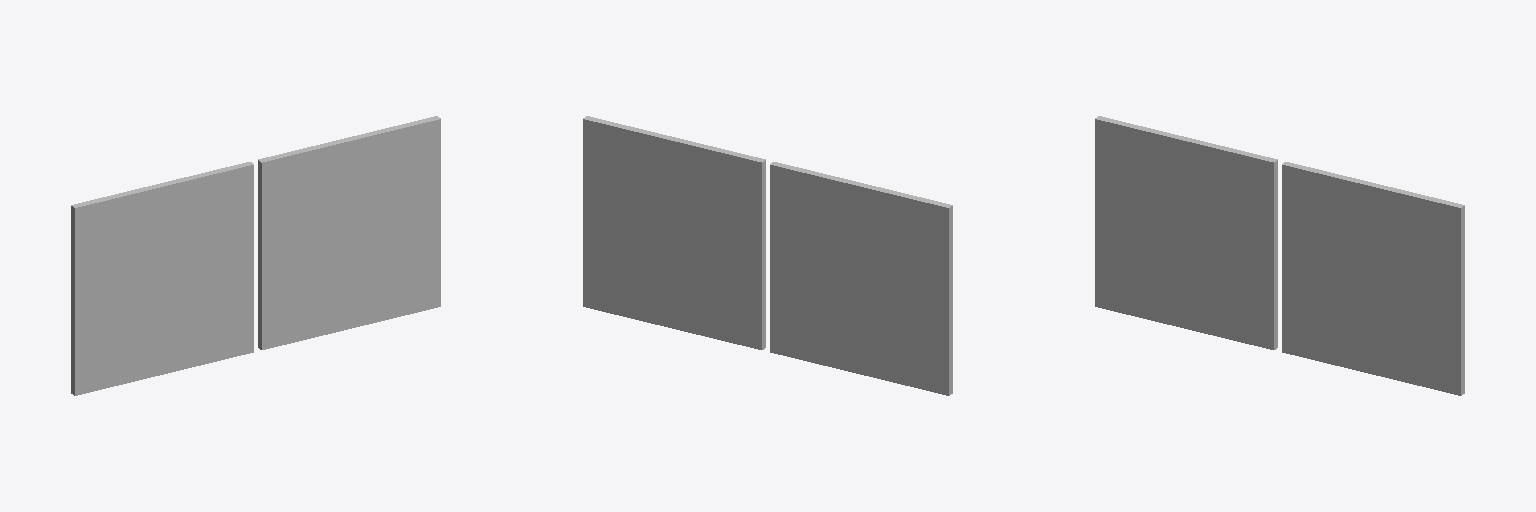
3 renders of one model, left to right at view 1: azimuth 30°, elevation 25°; view 2: azimuth 150°, elevation 25°; view 3: azimuth 330°, elevation 25°, orthographic.
Visible parts, largest first — view 1: PC63_Cube.066, PC66_Cube.069; view 2: PC63_Cube.066, PC66_Cube.069; view 3: PC63_Cube.066, PC66_Cube.069.
Boxes of the visible parts, x1=… form: PC63_Cube.066: x1=258, y1=116, x2=440, y2=349; PC66_Cube.069: x1=71, y1=162, x2=253, y2=395; PC63_Cube.066: x1=583, y1=116, x2=765, y2=349; PC66_Cube.069: x1=770, y1=162, x2=952, y2=395; PC63_Cube.066: x1=1282, y1=162, x2=1464, y2=395; PC66_Cube.069: x1=1095, y1=116, x2=1277, y2=349.
Size of the model in its own units: 20.4 by 10 by 0.4.